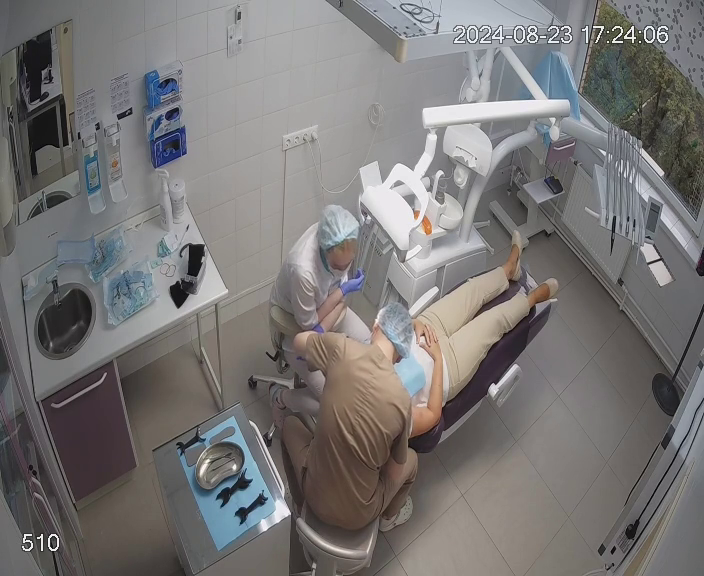Patient: (314, 226, 560, 466)
